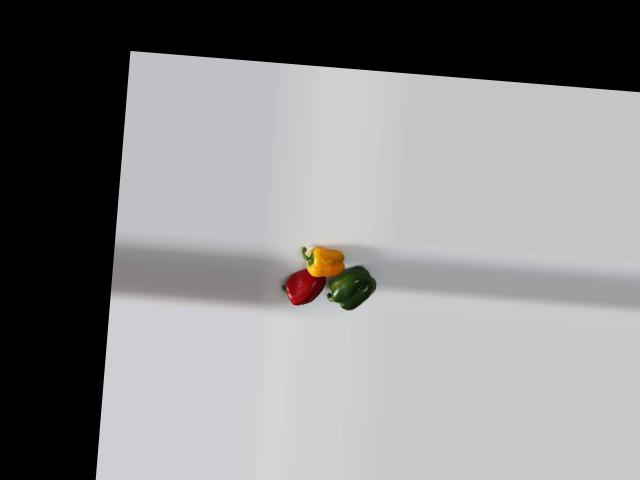bell_pepper: (298, 241, 346, 285)
